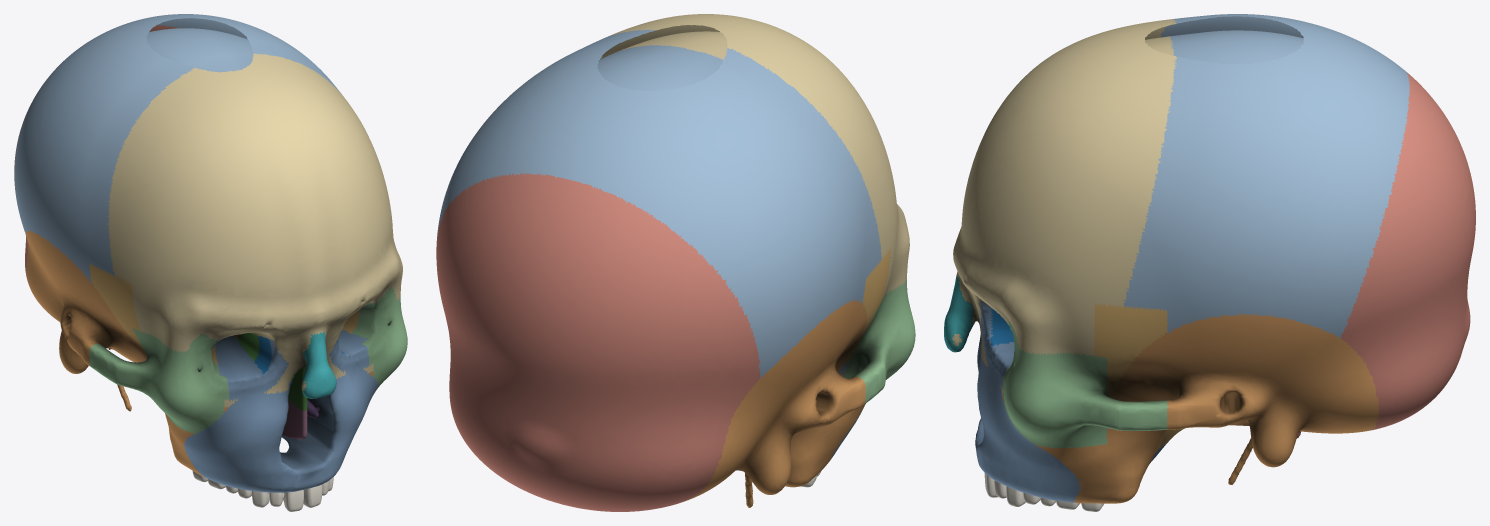
The model's file is craneo-inferior.glb.
3 views of the same model, side by side, from view 1: azimuth 30°, elevation 25°; view 2: azimuth 150°, elevation 25°; view 3: azimuth 270°, elevation 25° (orthographic). The views are drawn at different scales.
Parts seen in each view (by area): view 1: frontal, parietal_R, maxilla_R, temporal_R, zygomatic_R, maxilla_L, parietal_L, zygomatic_L, sphenoid, nasal_R, ethmoid, vomer (+2 smaller); view 2: occipital, parietal_R, temporal_R, parietal_L, frontal, zygomatic_R, sphenoid; view 3: parietal_L, frontal, temporal_L, occipital, zygomatic_L, maxilla_L, parietal_R, sphenoid, nasal_L, lacrimal_L.
Boxes of the visible parts, bbox=[...] form: frontal: bbox=[108, 53, 402, 407]; parietal_R: bbox=[14, 17, 226, 283]; maxilla_R: bbox=[184, 335, 311, 492]; temporal_R: bbox=[25, 230, 228, 477]; zygomatic_R: bbox=[89, 328, 229, 433]; maxilla_L: bbox=[281, 330, 378, 488]; parietal_L: bbox=[145, 14, 343, 96]; zygomatic_L: bbox=[352, 287, 407, 386]; sphenoid: bbox=[89, 263, 359, 365]; nasal_R: bbox=[301, 333, 325, 398]; ethmoid: bbox=[237, 333, 307, 411]; vomer: bbox=[282, 399, 307, 439]; occipital: bbox=[436, 173, 760, 511]; parietal_R: bbox=[569, 48, 881, 379]; temporal_R: bbox=[686, 299, 867, 507]; parietal_L: bbox=[437, 29, 692, 233]; frontal: bbox=[600, 14, 909, 303]; zygomatic_R: bbox=[843, 257, 915, 404]; sphenoid: bbox=[842, 248, 890, 364]; parietal_L: bbox=[1114, 40, 1409, 399]; frontal: bbox=[952, 19, 1176, 397]; temporal_L: bbox=[1002, 313, 1379, 503]; occipital: bbox=[1148, 72, 1475, 465]; zygomatic_L: bbox=[1002, 321, 1168, 448]; maxilla_L: bbox=[975, 301, 1081, 502]; parietal_R: bbox=[1161, 14, 1409, 87]; sphenoid: bbox=[1094, 303, 1184, 452]; nasal_L: bbox=[944, 275, 974, 352]; lacrimal_L: bbox=[990, 308, 1013, 346].
Size of the model in its own units: 0.1501 by 0.1886 by 0.2019.
